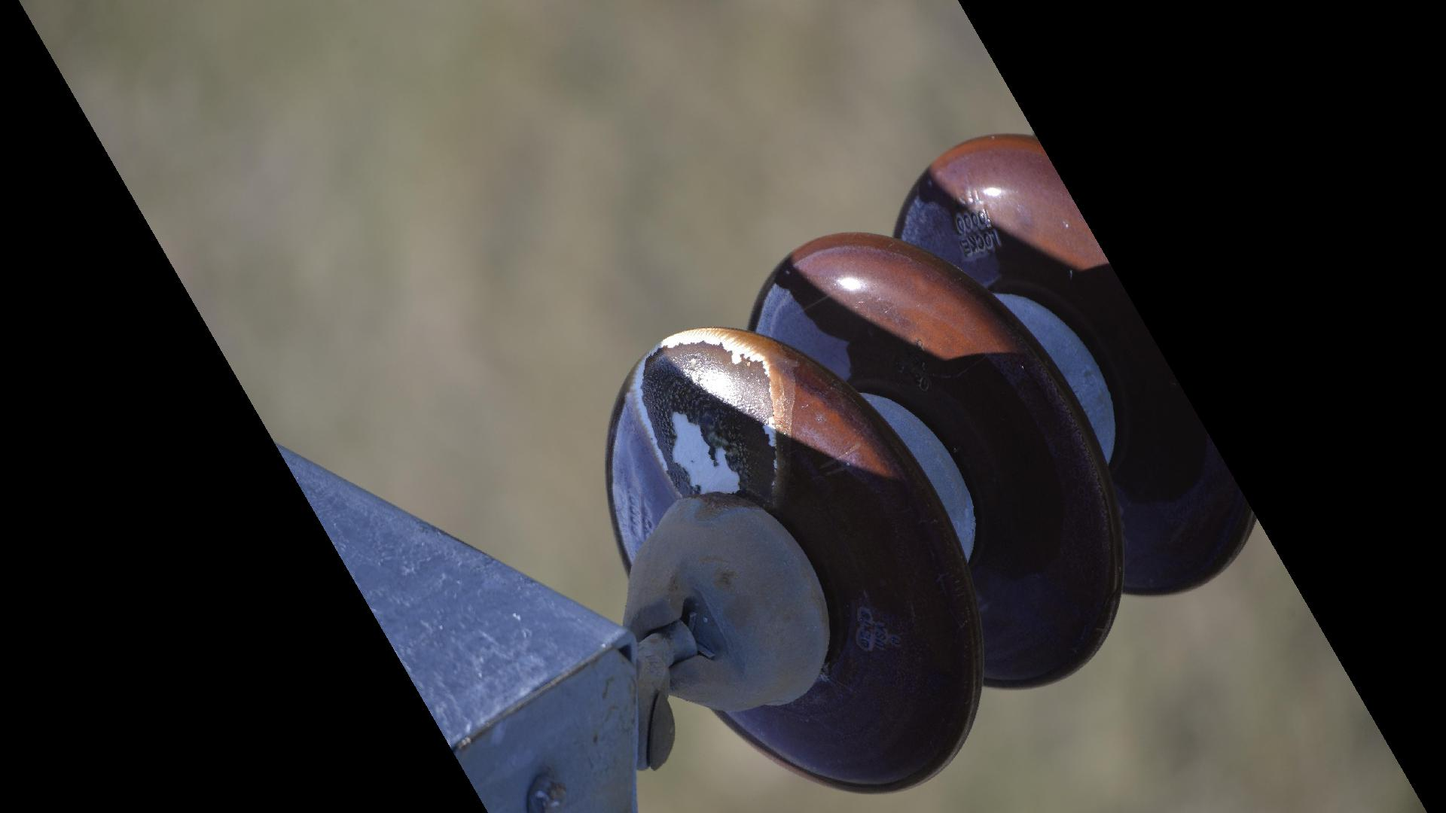insulator: (597, 122, 1264, 803)
insulator_flashover: (629, 322, 798, 504)
